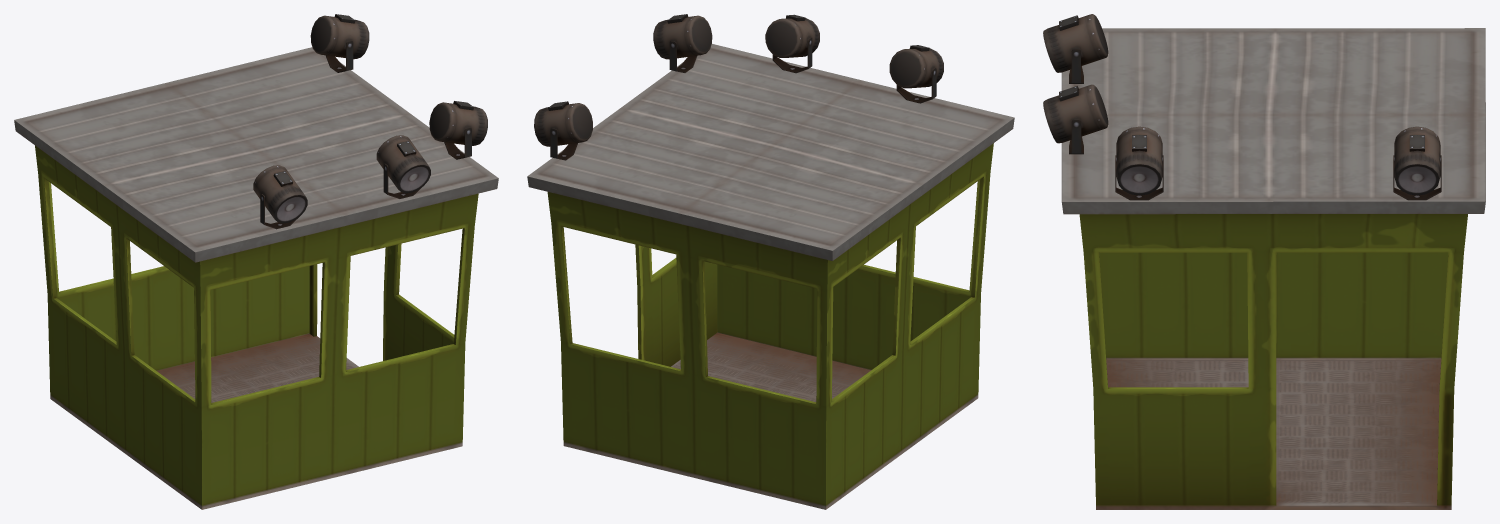
File: WatchTower01_2.FBX
The picture shows the model from 3 angles, left to right: view 1: azimuth 30°, elevation 25°; view 2: azimuth 150°, elevation 25°; view 3: azimuth 270°, elevation 25°; orthographic projection. The views are drawn at different scales.
Parts seen in each view (by area): view 1: WatchTower01_2; view 2: WatchTower01_2; view 3: WatchTower01_2.
Part boxes in pixels (box(x1,y1,x2,y2)): WatchTower01_2: box(14, 14, 498, 509); WatchTower01_2: box(527, 14, 1014, 509); WatchTower01_2: box(1043, 14, 1485, 509).
Size of what is drawn, in the model's own units: 3.38 by 3.3 by 3.45.
